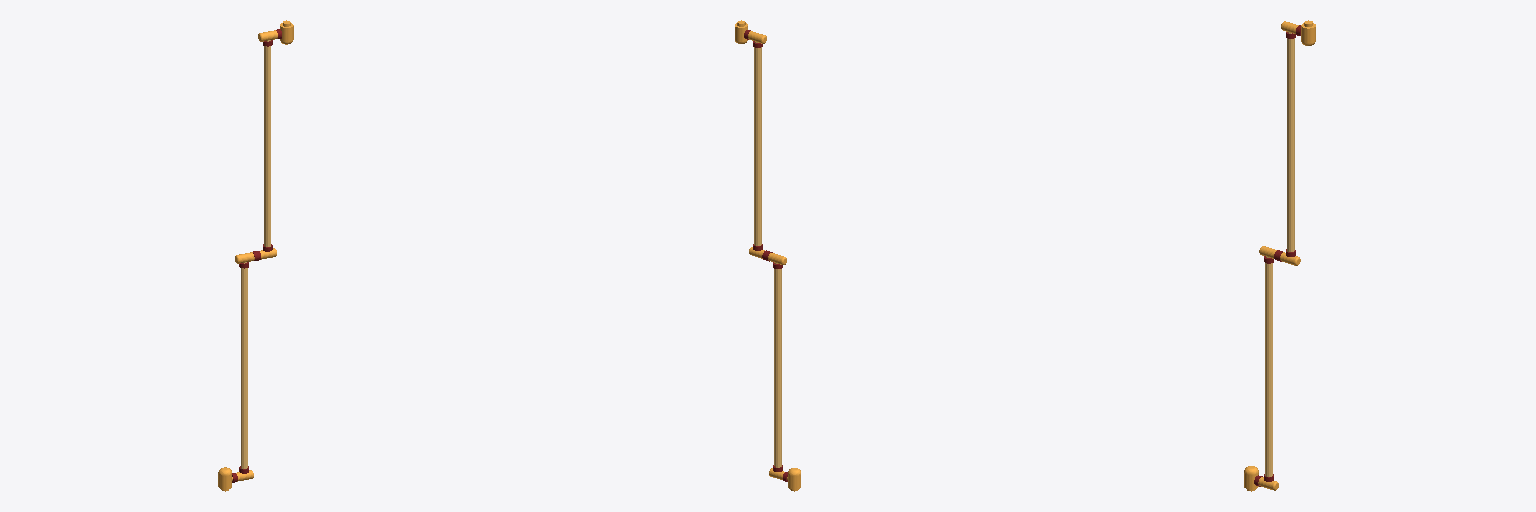
The robot description file, URDF, robot "RoboArmV2":
<?xml version="1.0" encoding="utf-8"?>
<!-- This URDF was automatically created by SolidWorks to URDF Exporter! Originally created by Stephen Brawner ([email redacted]) 
     Commit Version: 1.6.0-4-g7f85cfe  Build Version: 1.6.7995.38578
     For more information, please see http://wiki.ros.org/sw_urdf_exporter -->
<robot
  name="RoboArmV2">
  <link
    name="base_link">
    <inertial>
      <origin
        xyz="0 -5.5511E-17 0.28321"
        rpy="0 0 0" />
      <mass
        value="72.196" />
      <inertia
        ixx="1.8115"
        ixy="2.4803E-33"
        ixz="1.9246E-33"
        iyy="1.8115"
        iyz="-4.2736E-18"
        izz="0.42299" />
    </inertial>
    <visual>
      <origin
        xyz="0 0 0"
        rpy="0 0 0" />
      <geometry>
        <mesh
          filename="package://RoboArmV2/meshes/base_link.STL" />
      </geometry>
      <material
        name="">
        <color
          rgba="1 0.72157 0.32941 1" />
      </material>
    </visual>
    <collision>
      <origin
        xyz="0 0 0"
        rpy="0 0 0" />
      <geometry>
        <mesh
          filename="package://RoboArmV2/meshes/base_link.STL" />
      </geometry>
    </collision>
  </link>
  <link
    name="Link_1">
    <inertial>
      <origin
        xyz="0.040291 -0.0046437 0.23736"
        rpy="0 0 0" />
      <mass
        value="82.991" />
      <inertia
        ixx="1.2041"
        ixy="0.082995"
        ixz="-0.04036"
        iyy="1.9146"
        iyz="0.0046514"
        izz="1.8233" />
    </inertial>
    <visual>
      <origin
        xyz="0 0 0"
        rpy="0 0 0" />
      <geometry>
        <mesh
          filename="package://RoboArmV2/meshes/Link_1.STL" />
      </geometry>
      <material
        name="">
        <color
          rgba="1 0.72157 0.32941 1" />
      </material>
    </visual>
    <collision>
      <origin
        xyz="0 0 0"
        rpy="0 0 0" />
      <geometry>
        <mesh
          filename="package://RoboArmV2/meshes/Link_1.STL" />
      </geometry>
    </collision>
  </link>
  <joint
    name="Joint_1"
    type="revolute">
    <origin
      xyz="0 0 0"
      rpy="0 0 0" />
    <parent
      link="base_link" />
    <child
      link="Link_1" />
    <axis
      xyz="0 0 1" />
    <limit
      lower="-4.15"
      upper="4.15"
      effort="20000"
      velocity="2" />
  </joint>
  <link
    name="Link_2">
    <inertial>
      <origin
        xyz="9.3913E-07 -0.006639 0.18023"
        rpy="0 0 0" />
      <mass
        value="41.932" />
      <inertia
        ixx="0.63144"
        ixy="-3.6307E-07"
        ixz="-5.8671E-08"
        iyy="0.64396"
        iyz="0.0055051"
        izz="0.21637" />
    </inertial>
    <visual>
      <origin
        xyz="0 0 0"
        rpy="0 0 0" />
      <geometry>
        <mesh
          filename="package://RoboArmV2/meshes/Link_2.STL" />
      </geometry>
      <material
        name="">
        <color
          rgba="1 0.72157 0.32941 1" />
      </material>
    </visual>
    <collision>
      <origin
        xyz="0 0 0"
        rpy="0 0 0" />
      <geometry>
        <mesh
          filename="package://RoboArmV2/meshes/Link_2.STL" />
      </geometry>
    </collision>
  </link>
  <joint
    name="Joint_2"
    type="revolute">
    <origin
      xyz="0.64572 -0.074426 0.24943"
      rpy="1.5708 0 -1.6855" />
    <parent
      link="Link_1" />
    <child
      link="Link_2" />
    <axis
      xyz="0 0 -1" />
    <limit
      lower="-4.15"
      upper="4.15"
      effort="20000"
      velocity="1" />
  </joint>
  <link
    name="Motor_1">
    <inertial>
      <origin
        xyz="-3.8858E-16 3.6082E-16 0.45"
        rpy="0 0 0" />
      <mass
        value="10.226" />
      <inertia
        ixx="0.049713"
        ixy="1.5769E-18"
        ixz="-2.1684E-17"
        iyy="0.049713"
        iyz="-1.3565E-17"
        izz="0.082382" />
    </inertial>
    <visual>
      <origin
        xyz="0 0 0"
        rpy="0 0 0" />
      <geometry>
        <mesh
          filename="package://RoboArmV2/meshes/Motor_1.STL" />
      </geometry>
      <material
        name="">
        <color
          rgba="0.54902 0.18039 0.18039 1" />
      </material>
    </visual>
    <collision>
      <origin
        xyz="0 0 0"
        rpy="0 0 0" />
      <geometry>
        <mesh
          filename="package://RoboArmV2/meshes/Motor_1.STL" />
      </geometry>
    </collision>
  </link>
  <joint
    name="Joint_2_Motor"
    type="fixed">
    <origin
      xyz="0 0 0"
      rpy="0 0 0" />
    <parent
      link="Link_2" />
    <child
      link="Motor_1" />
    <axis
      xyz="0 0 0" />
  </joint>
  <link
    name="Link_3">
    <inertial>
      <origin
        xyz="-2.2204E-16 -3.8858E-16 2.5975"
        rpy="0 0 0" />
      <mass
        value="292.92" />
      <inertia
        ixx="629.08"
        ixy="-2.5438E-18"
        ixz="2.8671E-15"
        iyy="629.08"
        iyz="1.0436E-14"
        izz="0.97965" />
    </inertial>
    <visual>
      <origin
        xyz="0 0 0"
        rpy="0 0 0" />
      <geometry>
        <mesh
          filename="package://RoboArmV2/meshes/Link_3.STL" />
      </geometry>
      <material
        name="">
        <color
          rgba="1 0.81176 0.50196 1" />
      </material>
    </visual>
    <collision>
      <origin
        xyz="0 0 0"
        rpy="0 0 0" />
      <geometry>
        <mesh
          filename="package://RoboArmV2/meshes/Link_3.STL" />
      </geometry>
    </collision>
  </link>
  <joint
    name="Joint_3"
    type="revolute">
    <origin
      xyz="0 0 0.2"
      rpy="1.5708 1.456 3.1416" />
    <parent
      link="Link_2" />
    <child
      link="Link_3" />
    <axis
      xyz="0 0 1" />
    <limit
      lower="-4.15"
      upper="4.15"
      effort="15000"
      velocity="2" />
  </joint>
  <link
    name="Motor_2">
    <inertial>
      <origin
        xyz="-1.1102E-16 3.3307E-16 0.1475"
        rpy="0 0 0" />
      <mass
        value="10.226" />
      <inertia
        ixx="0.049713"
        ixy="-5.5798E-20"
        ixz="-8.9354E-19"
        iyy="0.049713"
        iyz="9.7929E-18"
        izz="0.082382" />
    </inertial>
    <visual>
      <origin
        xyz="0 0 0"
        rpy="0 0 0" />
      <geometry>
        <mesh
          filename="package://RoboArmV2/meshes/Motor_2.STL" />
      </geometry>
      <material
        name="">
        <color
          rgba="0.54902 0.18039 0.18039 1" />
      </material>
    </visual>
    <collision>
      <origin
        xyz="0 0 0"
        rpy="0 0 0" />
      <geometry>
        <mesh
          filename="package://RoboArmV2/meshes/Motor_2.STL" />
      </geometry>
    </collision>
  </link>
  <joint
    name="Link_3_Motor_1"
    type="fixed">
    <origin
      xyz="0 0 0"
      rpy="0 0 0" />
    <parent
      link="Link_3" />
    <child
      link="Motor_2" />
    <axis
      xyz="0 0 0" />
  </joint>
  <link
    name="Motor_3">
    <inertial>
      <origin
        xyz="-2.2204E-16 1.4988E-15 5.0475"
        rpy="0 0 0" />
      <mass
        value="10.226" />
      <inertia
        ixx="0.049713"
        ixy="-3.4464E-20"
        ixz="9.318E-19"
        iyy="0.049713"
        iyz="8.7782E-18"
        izz="0.082382" />
    </inertial>
    <visual>
      <origin
        xyz="0 0 0"
        rpy="0 0 0" />
      <geometry>
        <mesh
          filename="package://RoboArmV2/meshes/Motor_3.STL" />
      </geometry>
      <material
        name="">
        <color
          rgba="0.54902 0.18039 0.18039 1" />
      </material>
    </visual>
    <collision>
      <origin
        xyz="0 0 0"
        rpy="0 0 0" />
      <geometry>
        <mesh
          filename="package://RoboArmV2/meshes/Motor_3.STL" />
      </geometry>
    </collision>
  </link>
  <joint
    name="Joint_3_Motor_2"
    type="fixed">
    <origin
      xyz="0 0 0"
      rpy="0 0 0" />
    <parent
      link="Link_3" />
    <child
      link="Motor_3" />
    <axis
      xyz="0 0 0" />
  </joint>
  <link
    name="Link_4">
    <inertial>
      <origin
        xyz="0.084944 -0.0097912 5.1993"
        rpy="0 0 0" />
      <mass
        value="65.228" />
      <inertia
        ixx="0.29538"
        ixy="0.21926"
        ixz="0.023646"
        iyy="2.1724"
        iyz="-0.0027302"
        izz="2.2095" />
    </inertial>
    <visual>
      <origin
        xyz="0 0 0"
        rpy="0 0 0" />
      <geometry>
        <mesh
          filename="package://RoboArmV2/meshes/Link_4.STL" />
      </geometry>
      <material
        name="">
        <color
          rgba="1 0.72157 0.32941 1" />
      </material>
    </visual>
    <collision>
      <origin
        xyz="0 0 0"
        rpy="0 0 0" />
      <geometry>
        <mesh
          filename="package://RoboArmV2/meshes/Link_4.STL" />
      </geometry>
    </collision>
  </link>
  <joint
    name="Joint_4"
    type="fixed">
    <origin
      xyz="0 0 0"
      rpy="0 0 0" />
    <parent
      link="Link_3" />
    <child
      link="Link_4" />
    <axis
      xyz="0 0 0" />
  </joint>
  <link
    name="Link_5">
    <inertial>
      <origin
        xyz="9.3913E-07 -0.006639 0.18023"
        rpy="0 0 0" />
      <mass
        value="41.932" />
      <inertia
        ixx="0.63144"
        ixy="-3.6307E-07"
        ixz="-5.8671E-08"
        iyy="0.64396"
        iyz="0.0055051"
        izz="0.21637" />
    </inertial>
    <visual>
      <origin
        xyz="0 0 0"
        rpy="0 0 0" />
      <geometry>
        <mesh
          filename="package://RoboArmV2/meshes/Link_5.STL" />
      </geometry>
      <material
        name="">
        <color
          rgba="1 0.72157 0.32941 1" />
      </material>
    </visual>
    <collision>
      <origin
        xyz="0 0 0"
        rpy="0 0 0" />
      <geometry>
        <mesh
          filename="package://RoboArmV2/meshes/Link_5.STL" />
      </geometry>
    </collision>
  </link>
  <joint
    name="Joint_5"
    type="revolute">
    <origin
      xyz="0.74507 -0.085876 5.195"
      rpy="1.5708 0 -1.6855" />
    <parent
      link="Link_4" />
    <child
      link="Link_5" />
    <axis
      xyz="0 0 -1" />
    <limit
      lower="-4.15"
      upper="4.15"
      effort="10000"
      velocity="2" />
  </joint>
  <link
    name="Motor_4">
    <inertial>
      <origin
        xyz="1.1102E-16 0 0.475"
        rpy="0 0 0" />
      <mass
        value="15.339" />
      <inertia
        ixx="0.090547"
        ixy="5.0283E-18"
        ixz="1.2143E-17"
        iyy="0.090547"
        iyz="1.2028E-18"
        izz="0.12357" />
    </inertial>
    <visual>
      <origin
        xyz="0 0 0"
        rpy="0 0 0" />
      <geometry>
        <mesh
          filename="package://RoboArmV2/meshes/Motor_4.STL" />
      </geometry>
      <material
        name="">
        <color
          rgba="0.54902 0.18039 0.18039 1" />
      </material>
    </visual>
    <collision>
      <origin
        xyz="0 0 0"
        rpy="0 0 0" />
      <geometry>
        <mesh
          filename="package://RoboArmV2/meshes/Motor_4.STL" />
      </geometry>
    </collision>
  </link>
  <joint
    name="Joint_5_Motor"
    type="fixed">
    <origin
      xyz="0 0 0"
      rpy="0 0 0" />
    <parent
      link="Link_5" />
    <child
      link="Motor_4" />
    <axis
      xyz="0 0 0" />
  </joint>
  <link
    name="Link_6">
    <inertial>
      <origin
        xyz="0 0 2.5975"
        rpy="0 0 0" />
      <mass
        value="292.92" />
      <inertia
        ixx="629.08"
        ixy="-3.2859E-17"
        ixz="-4.9206E-15"
        iyy="629.08"
        iyz="1.0014E-15"
        izz="0.97965" />
    </inertial>
    <visual>
      <origin
        xyz="0 0 0"
        rpy="0 0 0" />
      <geometry>
        <mesh
          filename="package://RoboArmV2/meshes/Link_6.STL" />
      </geometry>
      <material
        name="">
        <color
          rgba="1 0.81176 0.50196 1" />
      </material>
    </visual>
    <collision>
      <origin
        xyz="0 0 0"
        rpy="0 0 0" />
      <geometry>
        <mesh
          filename="package://RoboArmV2/meshes/Link_6.STL" />
      </geometry>
    </collision>
  </link>
  <joint
    name="Joint_6"
    type="fixed">
    <origin
      xyz="0 5.195 0.2"
      rpy="1.5708 -1.456 0" />
    <parent
      link="Link_5" />
    <child
      link="Link_6" />
    <axis
      xyz="0 0 0" />
  </joint>
  <link
    name="Motor_5">
    <inertial>
      <origin
        xyz="1.9984E-15 -2.2204E-16 5.0475"
        rpy="0 0 0" />
      <mass
        value="10.226" />
      <inertia
        ixx="0.049713"
        ixy="-7.2472E-18"
        ixz="2.714E-18"
        iyy="0.049713"
        iyz="-9.2574E-19"
        izz="0.082382" />
    </inertial>
    <visual>
      <origin
        xyz="0 0 0"
        rpy="0 0 0" />
      <geometry>
        <mesh
          filename="package://RoboArmV2/meshes/Motor_5.STL" />
      </geometry>
      <material
        name="">
        <color
          rgba="0.54902 0.18039 0.18039 1" />
      </material>
    </visual>
    <collision>
      <origin
        xyz="0 0 0"
        rpy="0 0 0" />
      <geometry>
        <mesh
          filename="package://RoboArmV2/meshes/Motor_5.STL" />
      </geometry>
    </collision>
  </link>
  <joint
    name="Joint_6_Motor1"
    type="fixed">
    <origin
      xyz="0 0 0"
      rpy="0 0 0" />
    <parent
      link="Link_6" />
    <child
      link="Motor_5" />
    <axis
      xyz="0 0 0" />
  </joint>
  <link
    name="Motor_6">
    <inertial>
      <origin
        xyz="0 1.33226762955019E-15 0.147500000000001"
        rpy="0 0 0" />
      <mass
        value="10.2258843073462" />
      <inertia
        ixx="0.0497127104816508"
        ixy="-3.15096263154878E-19"
        ixz="1.81287701888851E-18"
        iyy="0.0497127104816508"
        iyz="-8.75216182068354E-18"
        izz="0.082382280451058" />
    </inertial>
    <visual>
      <origin
        xyz="0 0 0"
        rpy="0 0 0" />
      <geometry>
        <mesh
          filename="package://RoboArmV2/meshes/Motor_6.STL" />
      </geometry>
      <material
        name="">
        <color
          rgba="0.549019607843137 0.180392156862745 0.180392156862745 1" />
      </material>
    </visual>
    <collision>
      <origin
        xyz="0 0 0"
        rpy="0 0 0" />
      <geometry>
        <mesh
          filename="package://RoboArmV2/meshes/Motor_6.STL" />
      </geometry>
    </collision>
  </link>
  <joint
    name="Joint_6_Motor2"
    type="fixed">
    <origin
      xyz="0 0 0"
      rpy="0 0 0" />
    <parent
      link="Link_6" />
    <child
      link="Motor_6" />
    <axis
      xyz="0 0 0" />
  </joint>
  <link
    name="Link_7">
    <inertial>
      <origin
        xyz="0.01964 0.0022627 -0.0066391"
        rpy="0 0 0" />
      <mass
        value="41.932" />
      <inertia
        ixx="0.22182"
        ixy="-0.047213"
        ixz="-0.0054689"
        iyy="0.62599"
        iyz="-0.00062999"
        izz="0.64396" />
    </inertial>
    <visual>
      <origin
        xyz="0 0 0"
        rpy="0 0 0" />
      <geometry>
        <mesh
          filename="package://RoboArmV2/meshes/Link_7.STL" />
      </geometry>
      <material
        name="">
        <color
          rgba="1 0.72157 0.32941 1" />
      </material>
    </visual>
    <collision>
      <origin
        xyz="0 0 0"
        rpy="0 0 0" />
      <geometry>
        <mesh
          filename="package://RoboArmV2/meshes/Link_7.STL" />
      </geometry>
    </collision>
  </link>
  <joint
    name="Joint_7"
    type="revolute">
    <origin
      xyz="0 0 0"
      rpy="0 0 0" />
    <parent
      link="Link_6" />
    <child
      link="Link_7" />
    <axis
      xyz="0 0 1" />
    <limit
      lower="-4.15"
      upper="4.15"
      effort="20000"
      velocity="1" />
  </joint>
  <link
    name="Motor_7">
    <inertial>
      <origin
        xyz="-3.3307E-16 -3.5527E-15 0.45"
        rpy="0 0 0" />
      <mass
        value="10.226" />
      <inertia
        ixx="0.049713"
        ixy="2.325E-18"
        ixz="-1.0842E-17"
        iyy="0.049713"
        iyz="5.6333E-18"
        izz="0.082382" />
    </inertial>
    <visual>
      <origin
        xyz="0 0 0"
        rpy="0 0 0" />
      <geometry>
        <mesh
          filename="package://RoboArmV2/meshes/Motor_7.STL" />
      </geometry>
      <material
        name="">
        <color
          rgba="0.54902 0.18039 0.18039 1" />
      </material>
    </visual>
    <collision>
      <origin
        xyz="0 0 0"
        rpy="0 0 0" />
      <geometry>
        <mesh
          filename="package://RoboArmV2/meshes/Motor_7.STL" />
      </geometry>
    </collision>
  </link>
  <joint
    name="Joint_7_Motor"
    type="fixed">
    <origin
      xyz="0.198684611746515 0.02290032871242 0"
      rpy="-1.5707963267949 0 1.68554965613893" />
    <parent
      link="Link_7" />
    <child
      link="Motor_7" />
    <axis
      xyz="0 0 0" />
  </joint>
  <link
    name="Link_8">
    <inertial>
      <origin
        xyz="2.0431E-07 0.01207 0.60944"
        rpy="0 0 0" />
      <mass
        value="82.991" />
      <inertia
        ixx="1.9241"
        ixy="3.8424E-07"
        ixz="-4.6678E-07"
        iyy="1.8233"
        iyz="-0.040627"
        izz="1.1945" />
    </inertial>
    <visual>
      <origin
        xyz="0 0 0"
        rpy="0 0 0" />
      <geometry>
        <mesh
          filename="package://RoboArmV2/meshes/Link_8.STL" />
      </geometry>
      <material
        name="">
        <color
          rgba="1 0.72157 0.32941 1" />
      </material>
    </visual>
    <collision>
      <origin
        xyz="0 0 0"
        rpy="0 0 0" />
      <geometry>
        <mesh
          filename="package://RoboArmV2/meshes/Link_8.STL" />
      </geometry>
    </collision>
  </link>
  <joint
    name="Joint_8"
    type="revolute">
    <origin
      xyz="0.19868 0.0229 0"
      rpy="-1.5708 0 1.6855" />
    <parent
      link="Link_7" />
    <child
      link="Link_8" />
    <axis
      xyz="0 0 -1" />
    <limit
      lower="-4.15"
      upper="4.15"
      effort="20000"
      velocity="1" />
  </joint>
  <link
    name="Link_9">
    <inertial>
      <origin
        xyz="0 0 0.21679"
        rpy="0 0 0" />
      <mass
        value="72.196" />
      <inertia
        ixx="1.8115"
        ixy="-5.9291E-17"
        ixz="-1.6335E-16"
        iyy="1.8115"
        iyz="-6.4559E-17"
        izz="0.42299" />
    </inertial>
    <visual>
      <origin
        xyz="0 0 0"
        rpy="0 0 0" />
      <geometry>
        <mesh
          filename="package://RoboArmV2/meshes/Link_9.STL" />
      </geometry>
      <material
        name="">
        <color
          rgba="1 0.72157 0.32941 1" />
      </material>
    </visual>
    <collision>
      <origin
        xyz="0 0 0"
        rpy="0 0 0" />
      <geometry>
        <mesh
          filename="package://RoboArmV2/meshes/Link_9.STL" />
      </geometry>
    </collision>
  </link>
  <joint
    name="Joint_9"
    type="revolute">
    <origin
      xyz="0 -0.25057 0.65"
      rpy="-1.5708 -1.456 0" />
    <parent
      link="Link_8" />
    <child
      link="Link_9" />
    <axis
      xyz="0 0 -1" />
    <limit
      lower="-4.15"
      upper="4.15"
      effort="20000"
      velocity="2" />
  </joint>
</robot>

--- Facts derived from the render (not from the file) ---
3 views of the same robot in one strip: view 1: azimuth 30°, elevation 25°; view 2: azimuth 150°, elevation 25°; view 3: azimuth 330°, elevation 25° (orthographic).
Robot: RoboArmV2 — 17 links, 16 joints (7 revolute, 9 fixed); root link base_link; default pose: all joints at 0.
Visible links, largest first — view 1: Link_6, Link_3; view 2: Link_3, Link_6; view 3: Link_6, Link_3.
Link boxes in pixels (<box>): Link_6: <box>264,40,270,246</box>; Link_3: <box>241,262,247,468</box>; Link_3: <box>774,263,781,467</box>; Link_6: <box>754,42,761,245</box>; Link_6: <box>1287,32,1294,251</box>; Link_3: <box>1265,257,1272,476</box>.
Size in the robot's own frame: 1.74 by 0.4657 by 10.89 metres.
Meshes: 17 distinct files referenced, 17 mesh visuals loaded (17 binary STL).
